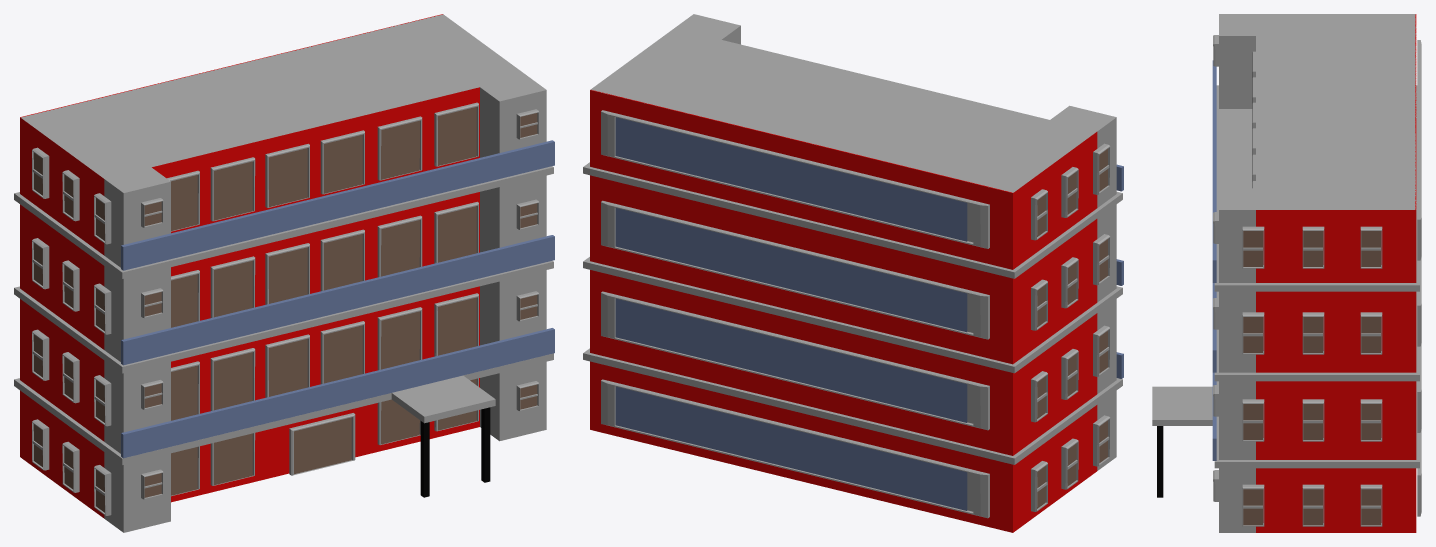
File: Hospital.fbx
The picture shows the model from 3 angles, left to right: view 1: azimuth 30°, elevation 25°; view 2: azimuth 150°, elevation 25°; view 3: azimuth 270°, elevation 25°; orthographic projection. The views are drawn at different scales.
Visible parts, largest first — view 1: pCube347, pCube107, pCube108, pCube109, pCube106, pCube105, pCube344, polySurface503, pCube104, polySurface470, polySurface473, polySurface469 (+33 smaller); view 2: pCube103, pCube347, polySurface502, polySurface500, polySurface499, polySurface501, pCube105, pCube106, pCube344, polySurface494, polySurface497, polySurface487 (+9 smaller); view 3: pCube347, pCube106, pCube104, pCube105, pCube344, polySurface499, pCube107, polySurface486, polySurface476, polySurface483, polySurface481, polySurface485 (+12 smaller).
Part boxes in pixels (left/top/right/bottom): pCube347: left=20, top=14, right=546, bottom=532; pCube107: left=121, top=140, right=554, bottom=270; pCube108: left=121, top=235, right=554, bottom=365; pCube109: left=121, top=328, right=554, bottom=458; pCube106: left=14, top=166, right=553, bottom=278; pCube105: left=14, top=260, right=553, bottom=373; pCube344: left=14, top=353, right=553, bottom=464; polySurface503: left=289, top=413, right=355, bottom=475; pCube104: left=391, top=375, right=495, bottom=423; polySurface470: left=377, top=116, right=422, bottom=180; polySurface473: left=210, top=157, right=255, bottom=221; polySurface469: left=434, top=102, right=478, bottom=166; pCube103: left=590, top=90, right=1013, bottom=532; pCube347: left=590, top=14, right=1116, bottom=531; polySurface502: left=601, top=379, right=989, bottom=518; polySurface500: left=601, top=200, right=989, bottom=339; polySurface499: left=601, top=110, right=989, bottom=248; polySurface501: left=601, top=291, right=989, bottom=430; pCube105: left=583, top=257, right=1122, bottom=373; pCube106: left=583, top=162, right=1122, bottom=278; pCube344: left=583, top=348, right=1122, bottom=464; polySurface494: left=1061, top=257, right=1078, bottom=308; polySurface497: left=1061, top=167, right=1078, bottom=217; polySurface487: left=1061, top=438, right=1078, bottom=489; pCube347: left=1219, top=14, right=1416, bottom=532; pCube106: left=1214, top=85, right=1419, bottom=291; pCube104: left=1152, top=386, right=1218, bottom=425; pCube105: left=1214, top=291, right=1419, bottom=381; pCube344: left=1214, top=381, right=1419, bottom=468; polySurface499: left=1417, top=40, right=1421, bottom=260; pCube107: left=1212, top=60, right=1216, bottom=282; polySurface486: left=1360, top=484, right=1382, bottom=526; polySurface476: left=1302, top=226, right=1324, bottom=268; polySurface483: left=1360, top=399, right=1382, bottom=441; polySurface481: left=1302, top=399, right=1324, bottom=441; polySurface485: left=1242, top=484, right=1264, bottom=526.
Size of the model in its own units: 112 by 85.01 by 63.12.
